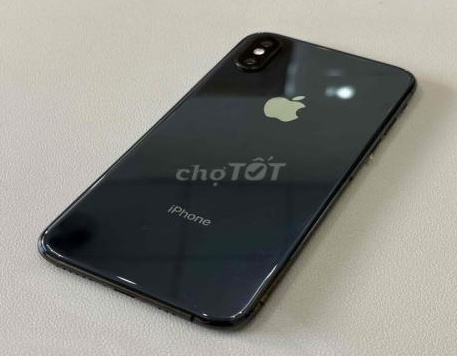scratch: (138, 220, 180, 242), (244, 30, 279, 39), (185, 296, 204, 308)
